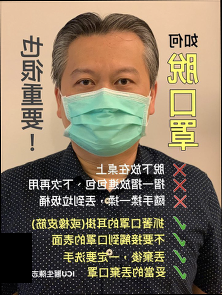with_mask: (62, 64, 151, 158)
